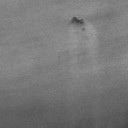iron sheet ash: (70, 16, 86, 32)
